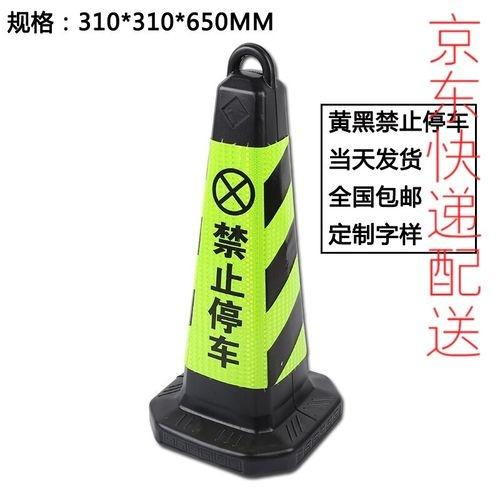cone_barrel: (142, 47, 340, 463)
